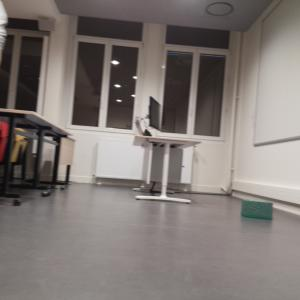small: (240, 197, 276, 221)
